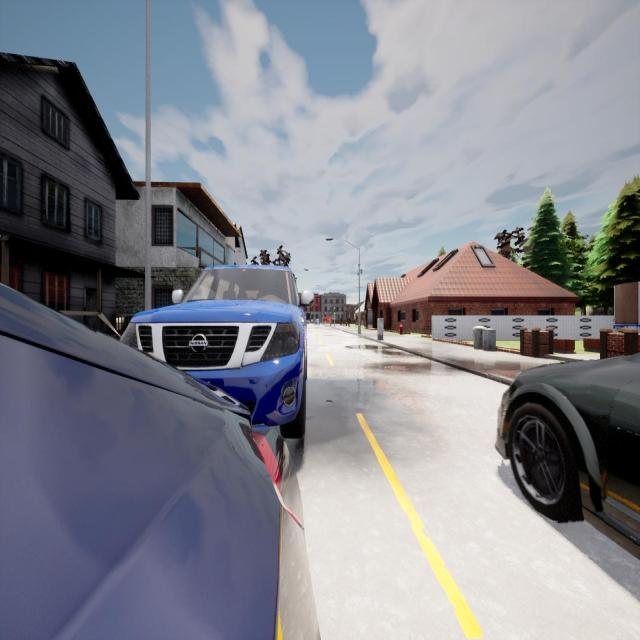Pedestrian: (348, 316, 350, 328)
Vehicle: (0, 290, 314, 638), (122, 265, 305, 435), (498, 356, 640, 540), (315, 319, 320, 325)
traffic_light: (334, 309, 336, 315)
